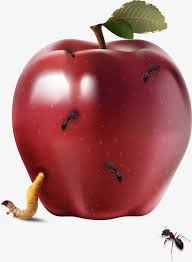damaged_apple: (12, 30, 192, 218)
